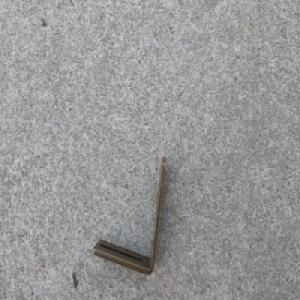MetalPart: (91, 154, 167, 276)
